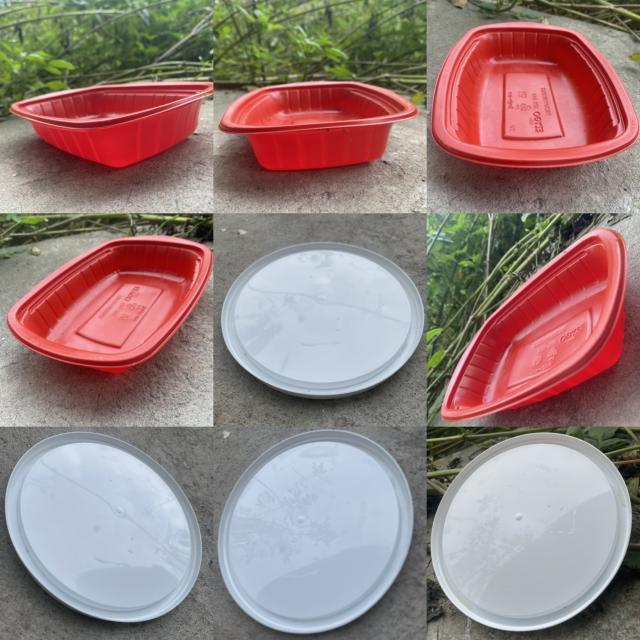Single-Use-Plastic: (431, 432, 631, 631), (219, 430, 412, 634), (6, 432, 201, 622), (441, 229, 628, 422), (221, 242, 424, 399), (431, 22, 639, 168), (8, 236, 212, 372), (219, 81, 419, 170), (10, 81, 214, 168)
